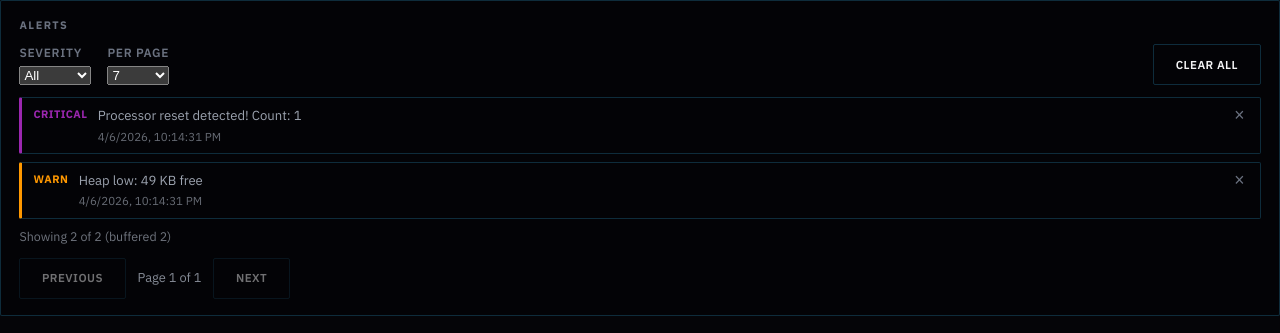
Test: AlertFeedPanel › filters by severity
Expected: the text "CRITICAL" is shown, x1=34 y1=107 x2=87 y2=122
Expected: the text "WARN" is shown, x1=34 y1=172 x2=68 y2=186
Select "Critical" in the dropdown named "filter alerts by severity" at (55, 76), box x1=19 y1=66 x2=91 y2=85
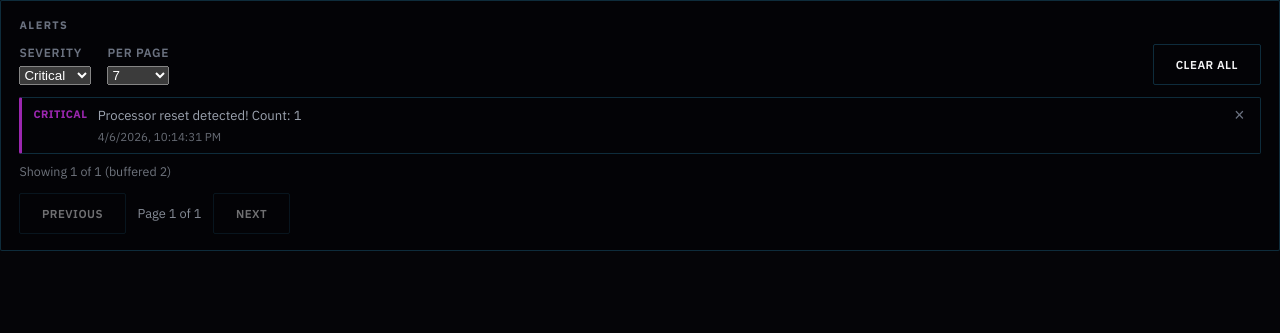
Expected: the text "CRITICAL" is shown, x1=34 y1=107 x2=87 y2=122
Expected: the text "WARN" is gone
